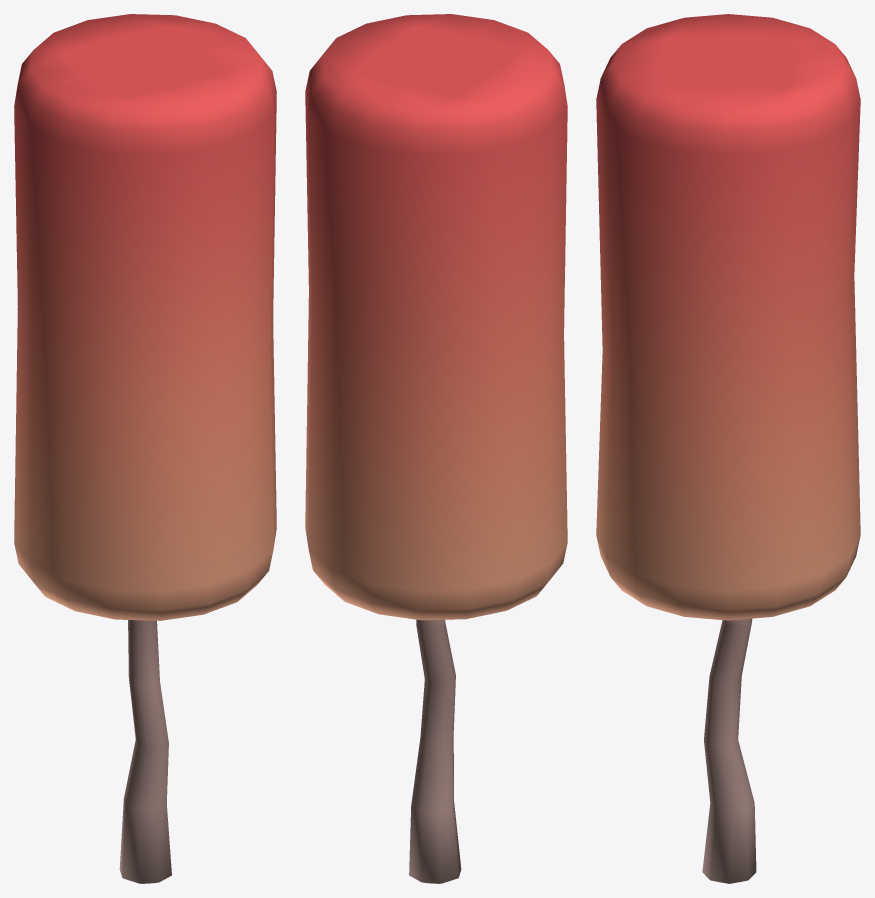
File: Tree04_S_Red.fbx
3 views of the same model, side by side, from view 1: azimuth 30°, elevation 25°; view 2: azimuth 150°, elevation 25°; view 3: azimuth 270°, elevation 25° (orthographic).
Parts seen in each view (by area): view 1: Tree04_S_Red; view 2: Tree04_S_Red; view 3: Tree04_S_Red.
Boxes of the visible parts, <box> form: Tree04_S_Red: <box>14,14,276,883</box>; Tree04_S_Red: <box>305,14,567,883</box>; Tree04_S_Red: <box>596,14,860,883</box>.
Size of the model in its own units: 2.31 by 7.86 by 2.31.
